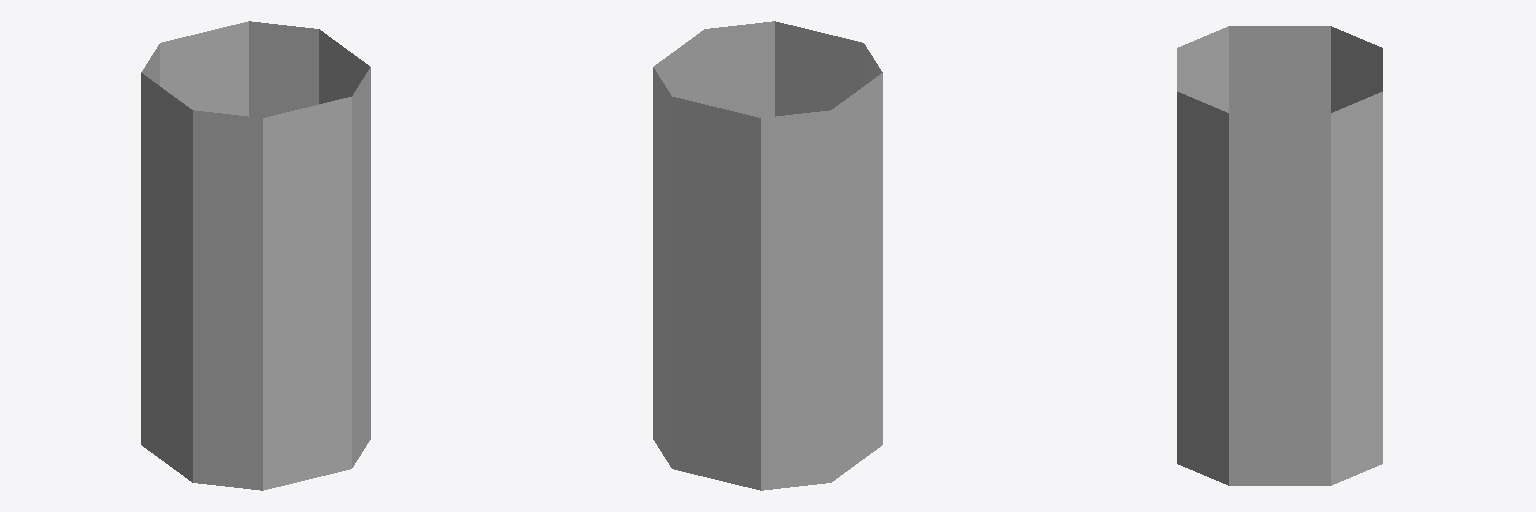
The model's file is press-glass.obj.
The picture shows the model from 3 angles: view 1: azimuth 30°, elevation 25°; view 2: azimuth 150°, elevation 25°; view 3: azimuth 270°, elevation 25°; orthographic projection.
Visible parts, largest first — view 1: Plane.002_Plane.001; view 2: Plane.002_Plane.001; view 3: Plane.002_Plane.001.
Part boxes in pixels (left/top/right/bottom): Plane.002_Plane.001: left=141, top=21, right=370, bottom=490; Plane.002_Plane.001: left=653, top=21, right=882, bottom=490; Plane.002_Plane.001: left=1177, top=26, right=1382, bottom=485.
Bounding box in the file's own units: 4 × 8 × 4.